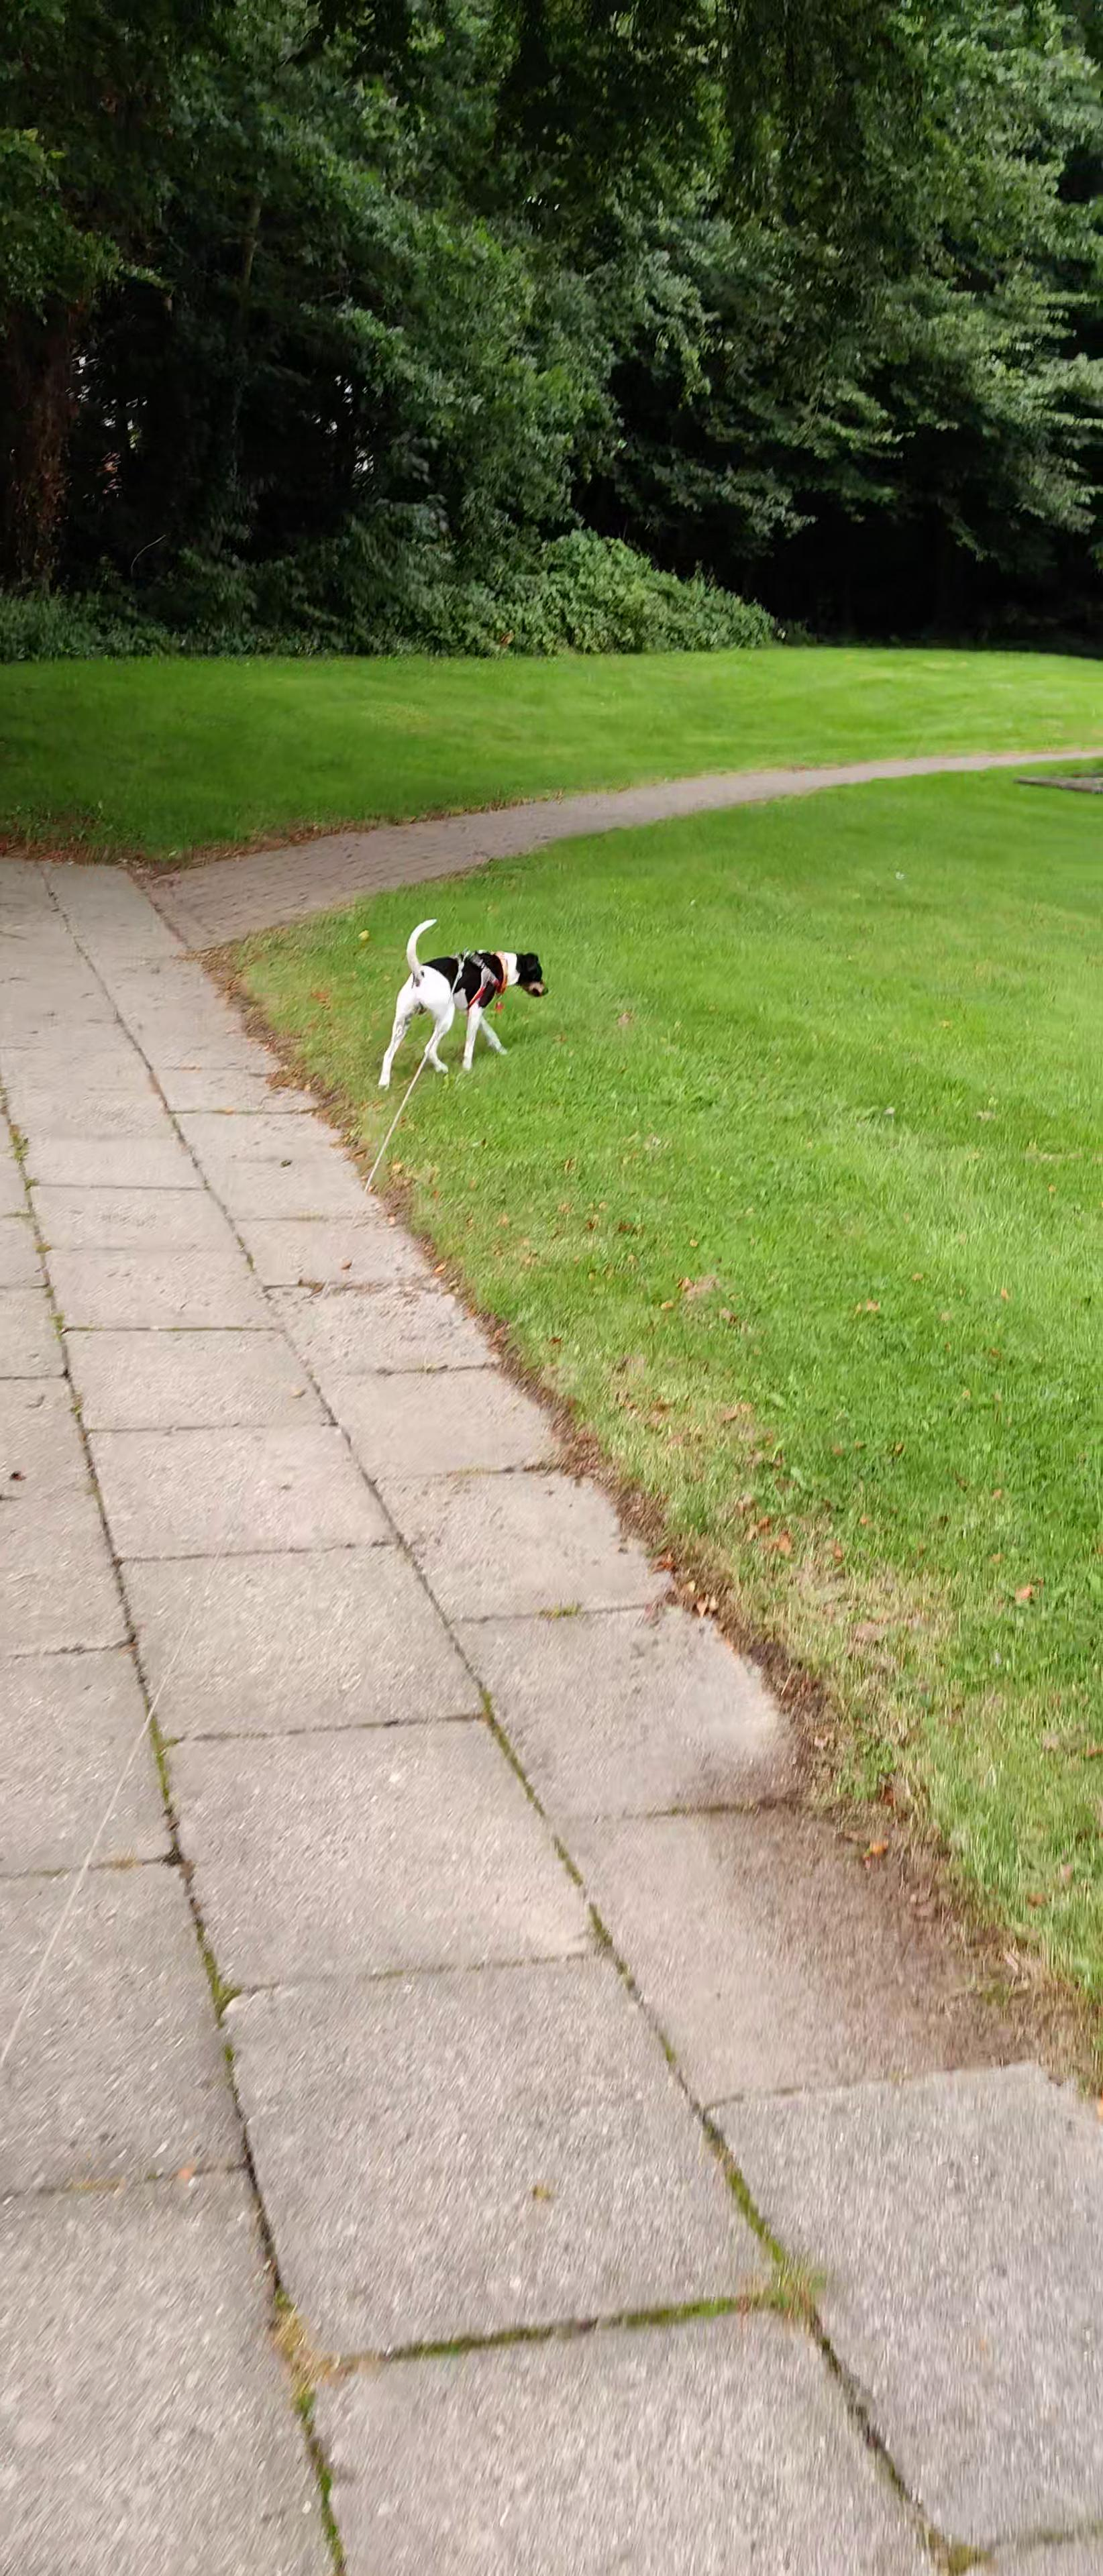Dog: (376, 915, 551, 1092)
